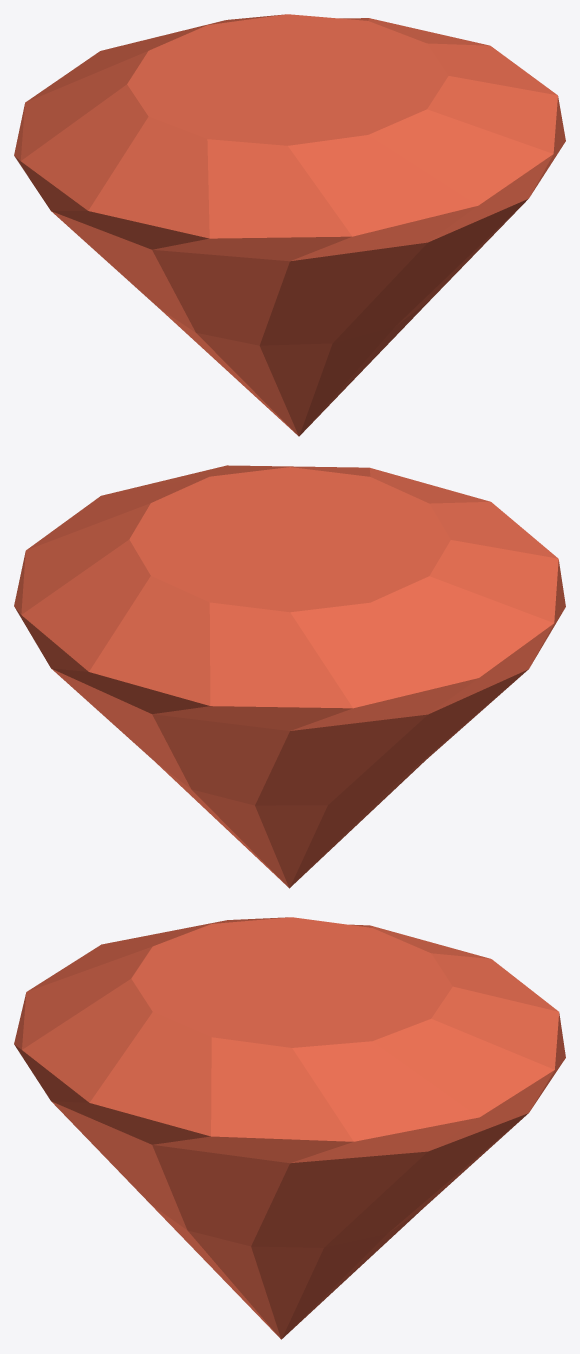
File: Brilliant_Ruby.fbx
3 views of the same model, one above another, from view 1: azimuth 30°, elevation 25°; view 2: azimuth 150°, elevation 25°; view 3: azimuth 270°, elevation 25° (orthographic).
Visible parts, largest first — view 1: BrilliantCut; view 2: BrilliantCut; view 3: BrilliantCut.
Boxes of the visible parts, x1=… form: BrilliantCut: x1=14, y1=14, x2=565, y2=436; BrilliantCut: x1=14, y1=465, x2=565, y2=888; BrilliantCut: x1=14, y1=917, x2=565, y2=1339.
Size of the model in its own units: 79.44 by 57 by 79.42.
